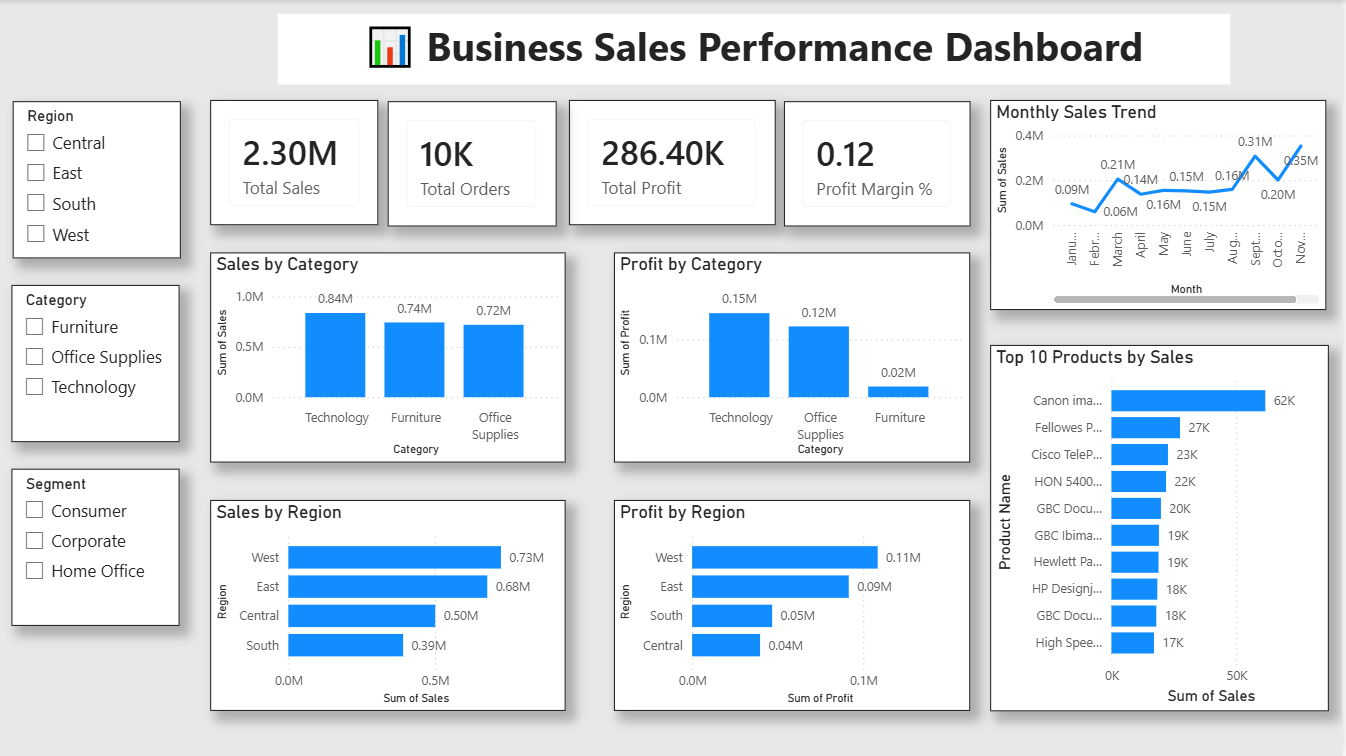

The page's visual inventory and layout, read from the dashboard file:
{"tool":"powerbi","page":{"name":"Page 1","canvas":[1280,720],"ordinal":0},"visuals":[{"type":"cardVisual","fields":{"Data":["Sample - Superstore.Total sales"]},"box":[201.7,95.6,160,119.4],"z":0},{"type":"cardVisual","fields":{"Data":["Sample - Superstore.Measure 2"]},"box":[559.3,95.3,160.5,119.4],"z":1000},{"type":"cardVisual","fields":{"Data":["Sample - Superstore.Total Orders"]},"box":[380.3,95.3,160.5,119.4],"z":2000},{"type":"cardVisual","fields":{"Data":["Sample - Superstore.Measure 4"]},"box":[738.3,95.3,177.3,119.4],"z":3000},{"type":"clusteredColumnChart","title":"Sales by Category","fields":{"Category":["Sample - Superstore.Category"],"Y":["Sum(Sample - Superstore.Sales)"]},"box":[220.8,240.1,319.7,200.3],"z":4000},{"type":"clusteredColumnChart","title":"Profit by Category","fields":{"Category":["Sample - Superstore.Category"],"Y":["Sum(Sample - Superstore.Profit)"]},"box":[596,240.1,319.7,200.3],"z":5000},{"type":"clusteredBarChart","title":" Sales by Region","fields":{"Category":["Sample - Superstore.Region"],"Y":["Sum(Sample - Superstore.Sales)"]},"box":[219.6,476.5,319.7,200.3],"z":6000},{"type":"clusteredBarChart","title":"Profit by Region","fields":{"Category":["Sample - Superstore.Region"],"Y":["Sum(Sample - Superstore.Profit)"]},"box":[596,476.5,319.7,200.3],"z":7000},{"type":"lineChart","title":"Monthly Sales Trend","fields":{"Category":["Sample - Superstore.Order Date.Variation.Date Hierarchy.Year","Sample - Superstore.Order Date.Variation.Date Hierarchy.Quarter","Sample - Superstore.Order Date.Variation.Date Hierarchy.Month","Sample - Superstore.Order Date.Variation.Date Hierarchy.Day"],"Y":["Sum(Sample - Superstore.Sales)"]},"box":[944.6,95.3,319.7,200.3],"z":8000},{"type":"clusteredBarChart","title":"Top 10 Products by Sales","fields":{"Category":["Sample - Superstore.Product Name"],"Y":["Sum(Sample - Superstore.Sales)"]},"box":[944.6,328.2,322.1,348.7],"z":9000},{"type":"slicer","fields":{"Values":["Sample - Superstore.Region"]},"box":[12.5,97,160,149.6],"z":10000},{"type":"slicer","fields":{"Values":["Sample - Superstore.Category"]},"box":[11.3,271.9,160,149.6],"z":11000},{"type":"slicer","fields":{"Values":["Sample - Superstore.Segment"]},"box":[11.3,446.9,160,149.6],"z":12000},{"type":"textbox","box":[265.4,13.3,907.2,67.6],"z":13000}]}

Visuals, with their boxes in screenshot pixels (x1, y1, x2, y2), scaled from the page's 1280x720 canvas onto the 1346x756 screenshot:
cardVisual - Sample - Superstore.Total sales: [212, 100, 380, 226]
cardVisual - Sample - Superstore.Measure 2: [588, 100, 757, 225]
cardVisual - Sample - Superstore.Total Orders: [400, 100, 569, 225]
cardVisual - Sample - Superstore.Measure 4: [776, 100, 963, 225]
"Sales by Category" clusteredColumnChart: [232, 252, 568, 462]
"Profit by Category" clusteredColumnChart: [627, 252, 963, 462]
" Sales by Region" clusteredBarChart: [231, 500, 567, 711]
"Profit by Region" clusteredBarChart: [627, 500, 963, 711]
"Monthly Sales Trend" lineChart: [993, 100, 1329, 310]
"Top 10 Products by Sales" clusteredBarChart: [993, 345, 1332, 711]
slicer - Sample - Superstore.Region: [13, 102, 181, 259]
slicer - Sample - Superstore.Category: [12, 285, 180, 443]
slicer - Sample - Superstore.Segment: [12, 469, 180, 626]
textbox: [279, 14, 1233, 85]
